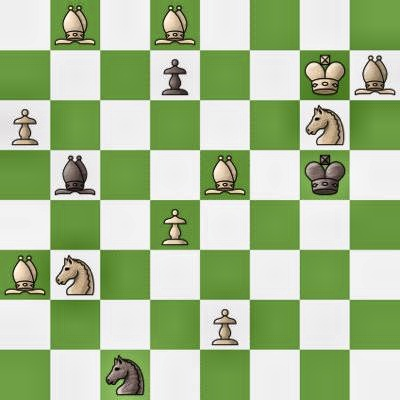black-bishop: (50, 150, 100, 200)
black-king: (300, 150, 350, 200)
black-knight: (100, 350, 150, 400)
black-pawn: (150, 50, 200, 100)
white-bishop: (50, 0, 100, 50), (150, 0, 200, 50), (350, 50, 400, 100), (200, 150, 250, 200), (0, 250, 50, 300)
white-king: (300, 50, 350, 100)
white-knight: (300, 100, 350, 150), (50, 250, 100, 300)
white-pawn: (0, 100, 50, 150), (150, 200, 200, 250), (200, 300, 250, 350)
